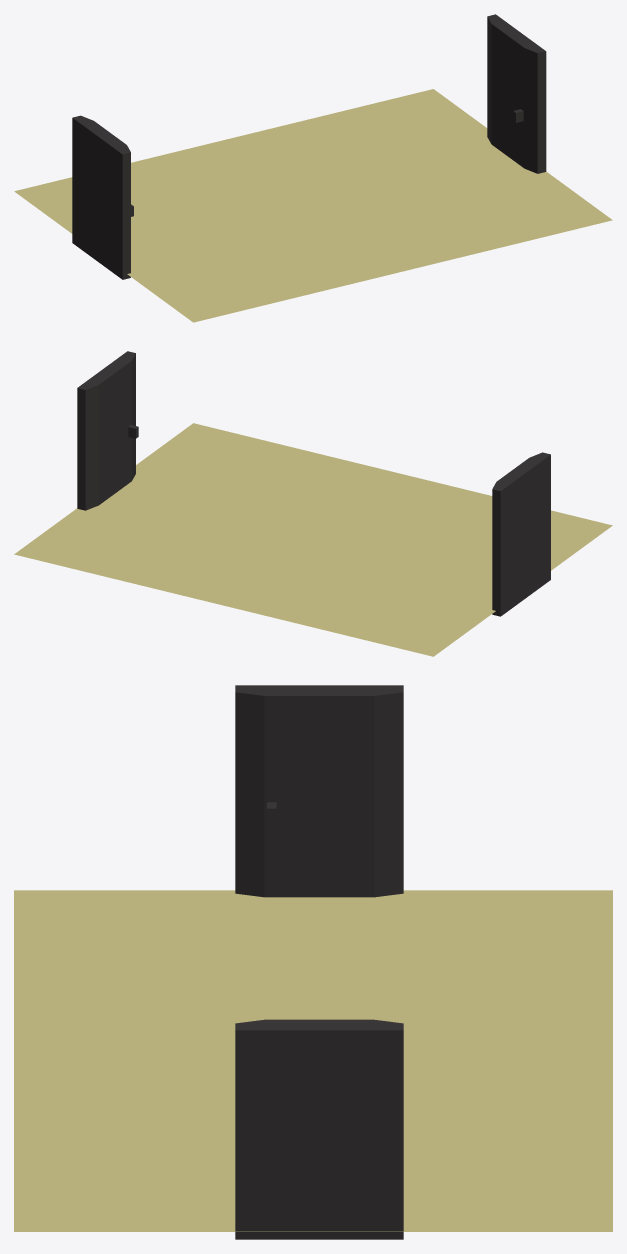
The model's file is ByakkoStage4.14.fbx.
3 views of the same model, one above another, from view 1: azimuth 30°, elevation 25°; view 2: azimuth 150°, elevation 25°; view 3: azimuth 270°, elevation 25° (orthographic). The views are drawn at different scales.
Visible parts, largest first — view 1: Plane.050, Plane.051; view 2: Plane.050, Plane.051; view 3: Plane.050, Plane.051.
Part boxes in pixels (x1,y1,x2,y2): Plane.050: (14, 89, 612, 322); Plane.051: (72, 14, 546, 279); Plane.050: (14, 423, 612, 656); Plane.051: (77, 351, 550, 616); Plane.050: (14, 890, 612, 1231); Plane.051: (235, 685, 403, 1239).
Size of the model in its own units: 34.66 by 9.8 by 25.41.
